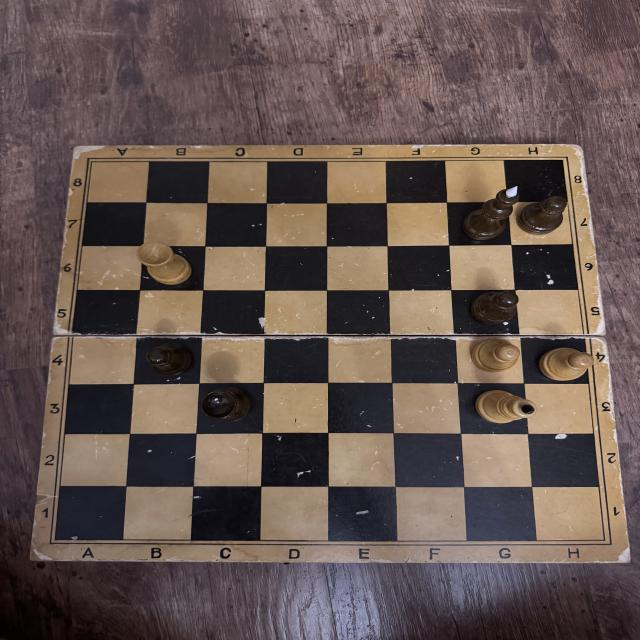black-king: (461, 181, 519, 241)
black-pawn: (517, 195, 566, 234), (471, 289, 520, 326), (146, 342, 192, 376)
black-rook: (200, 388, 254, 424)
white-king: (474, 386, 538, 426)
white-pawn: (539, 347, 593, 382), (470, 337, 521, 372)
white-rook: (138, 242, 191, 285)
